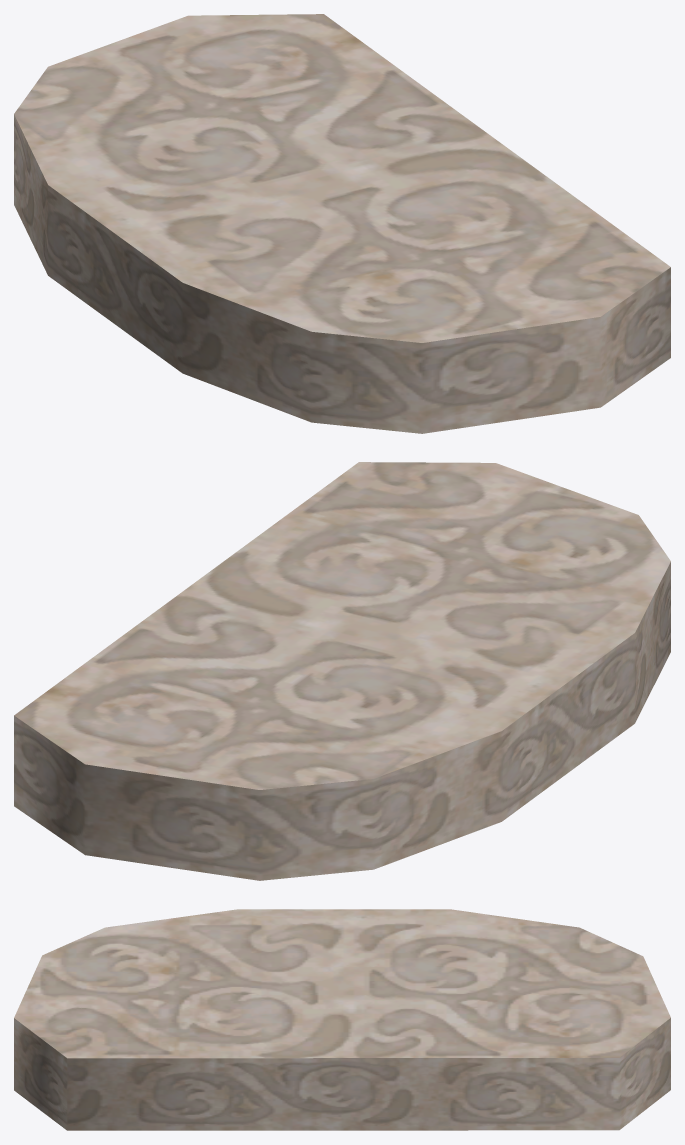
File: EKH_GROTTO_PS_GR_OBJECT06.obj
3 views of the same model, one above another, from view 1: azimuth 30°, elevation 25°; view 2: azimuth 150°, elevation 25°; view 3: azimuth 270°, elevation 25° (orthographic). The views are drawn at different scales.
Parts seen in each view (by area): view 1: GR_Object06; view 2: GR_Object06; view 3: GR_Object06.
Boxes of the visible parts, x1,y1,x2,y2 form: GR_Object06: [14, 14, 670, 433]; GR_Object06: [14, 462, 670, 880]; GR_Object06: [14, 909, 670, 1130].
Bounding box in the file's own units: 265 × 60 × 493.
